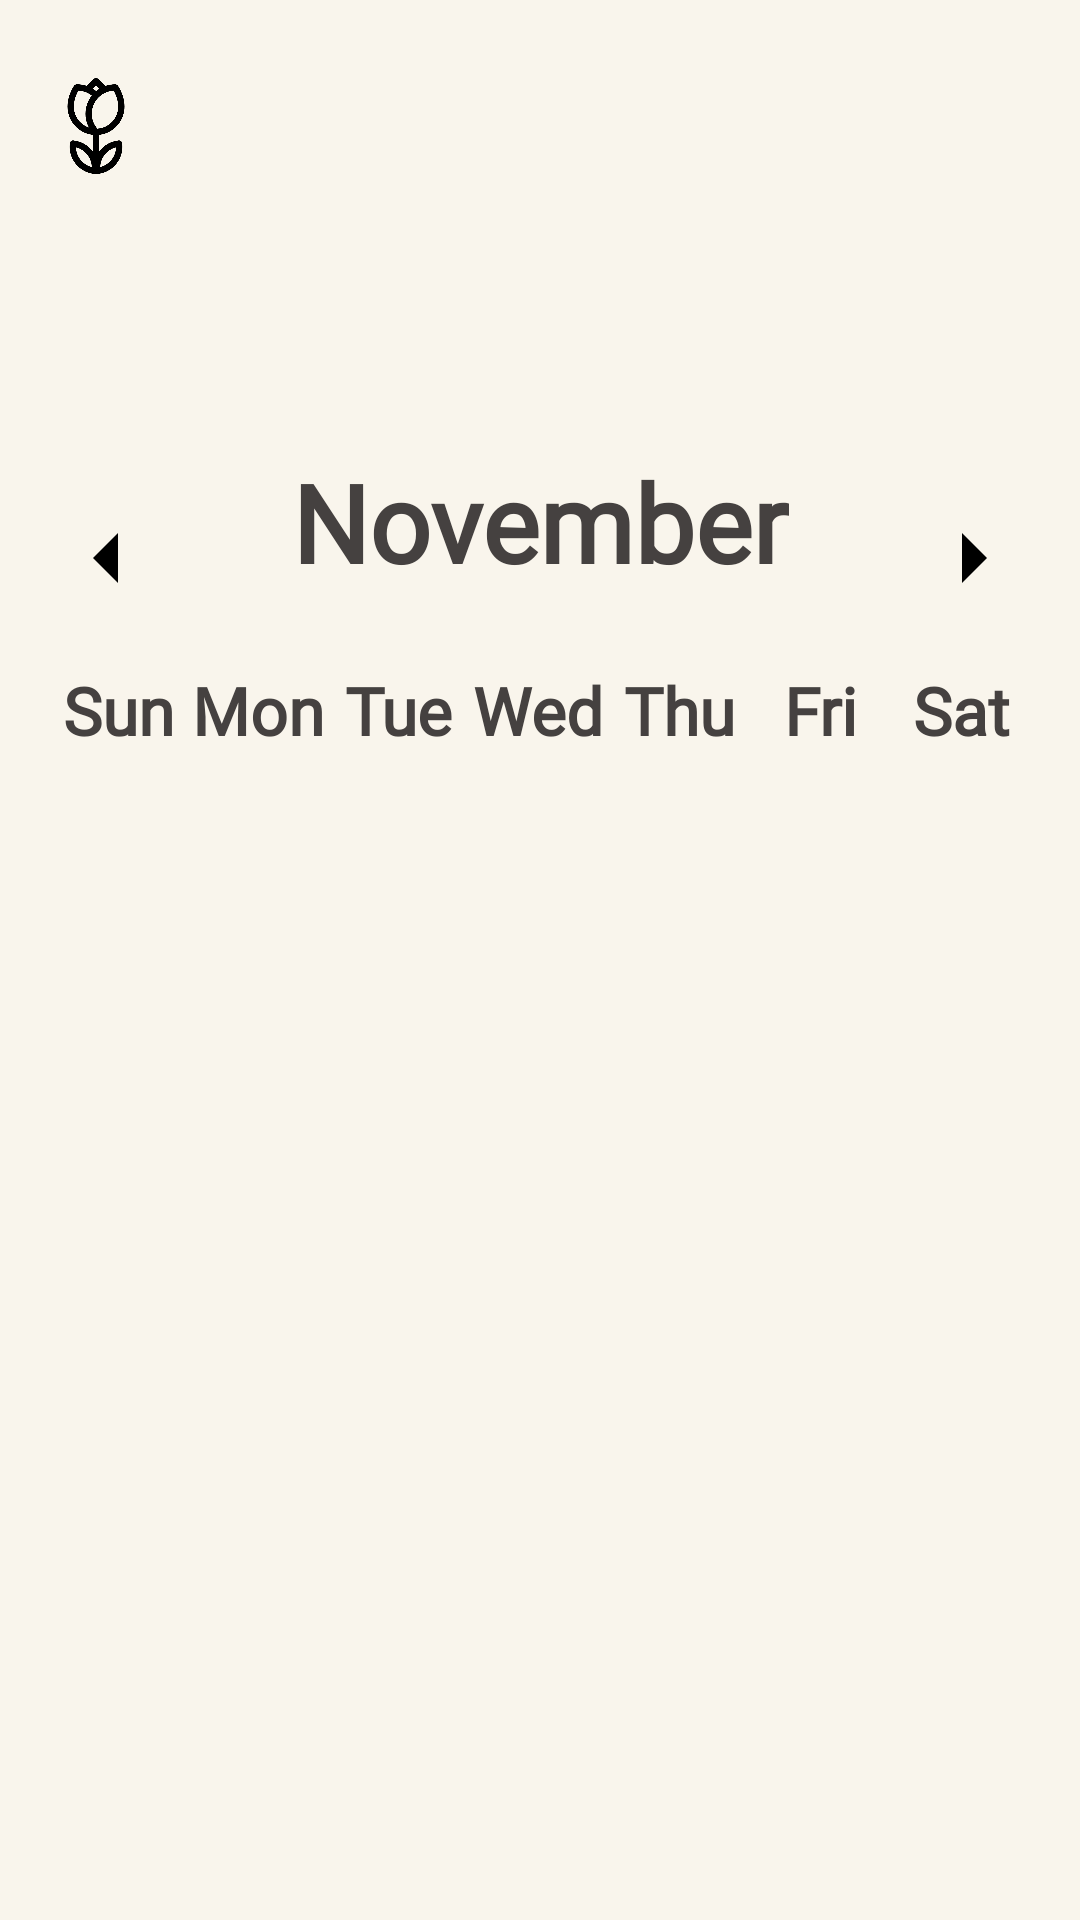

Where to tap for icons on this 1080x1920 app screen, as (x=x, y=y):
Previous Month: (x=105, y=558)
